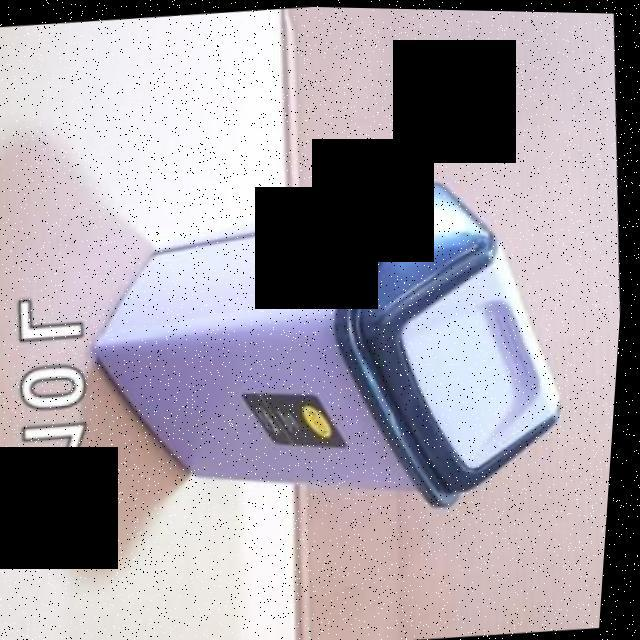bin: (63, 130, 603, 550)
